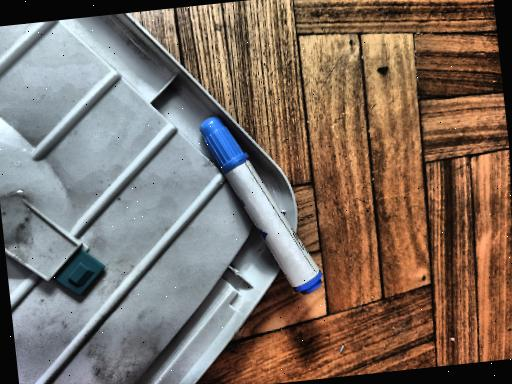marcador azul: (199, 116, 321, 293)
